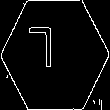L_S: (41, 30, 69, 80)
